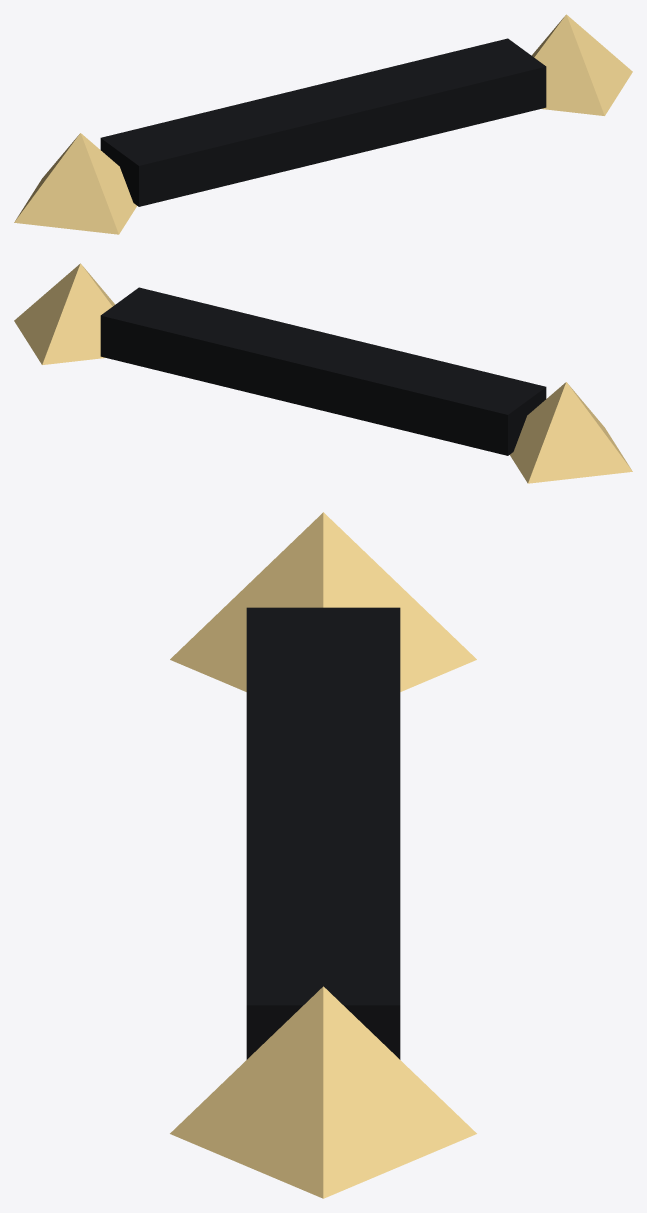
The model's file is band.glb.
The picture shows the model from 3 angles, top to bottom: view 1: azimuth 30°, elevation 25°; view 2: azimuth 150°, elevation 25°; view 3: azimuth 270°, elevation 25°; orthographic projection. The views are drawn at different scales.
Visible parts, largest first — view 1: Band; view 2: Band; view 3: Band.
Part boxes in pixels (left/top/right/bottom): Band: left=14, top=14, right=632, bottom=234; Band: left=14, top=263, right=632, bottom=483; Band: left=170, top=512, right=476, bottom=1198.
Size of the model in its own units: 0.79 by 0.09 by 0.17.
